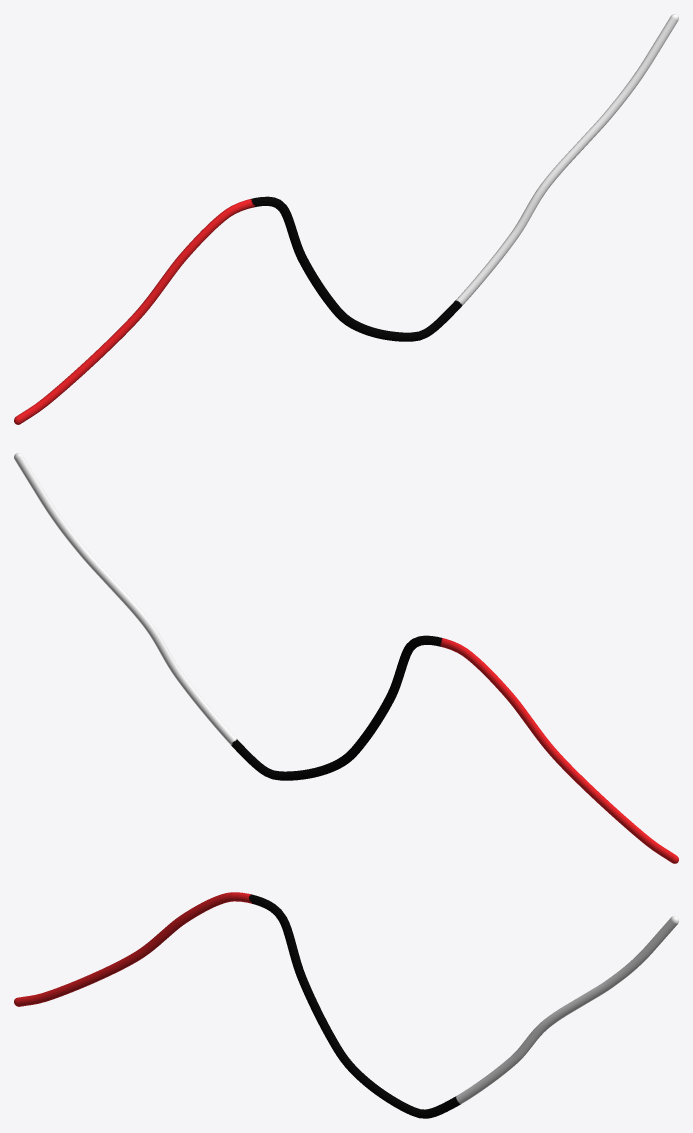
Rendered from BreakpointCurve_SeperateLine.FBX.
The picture shows the model from 3 angles, top to bottom: view 1: azimuth 30°, elevation 25°; view 2: azimuth 150°, elevation 25°; view 3: azimuth 330°, elevation 25°; orthographic projection.
Visible parts, largest first — view 1: LastLine, FirstLine, MidLine; view 2: LastLine, FirstLine, MidLine; view 3: MidLine, LastLine, FirstLine.
Boxes of the visible parts, bbox=[...] form: LastLine: bbox=[455, 14, 678, 305]; FirstLine: bbox=[14, 198, 257, 424]; MidLine: bbox=[256, 196, 461, 341]; LastLine: bbox=[14, 453, 237, 744]; FirstLine: bbox=[435, 637, 678, 863]; MidLine: bbox=[231, 635, 437, 780]; MidLine: bbox=[253, 895, 460, 1118]; LastLine: bbox=[455, 916, 678, 1104]; FirstLine: bbox=[14, 892, 255, 1006].
Bounding box in the file's own units: 5.08 × 1.93 × 0.0487.
1 material, 1 textured.
